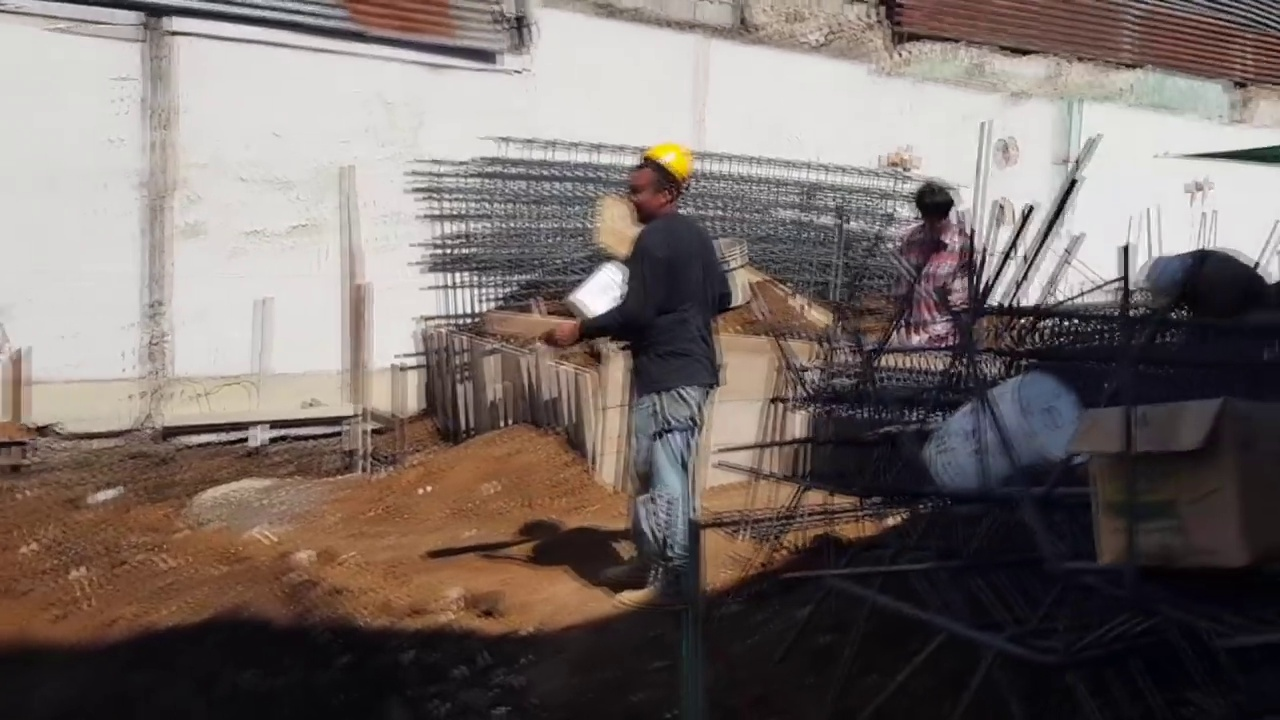helmet: (637, 140, 698, 190), (1143, 255, 1186, 307)
helmet-off: (915, 177, 964, 245)
helmet-on: (624, 135, 702, 227), (1144, 250, 1215, 306)
person: (538, 132, 726, 617), (892, 174, 974, 370), (1141, 240, 1277, 318)
